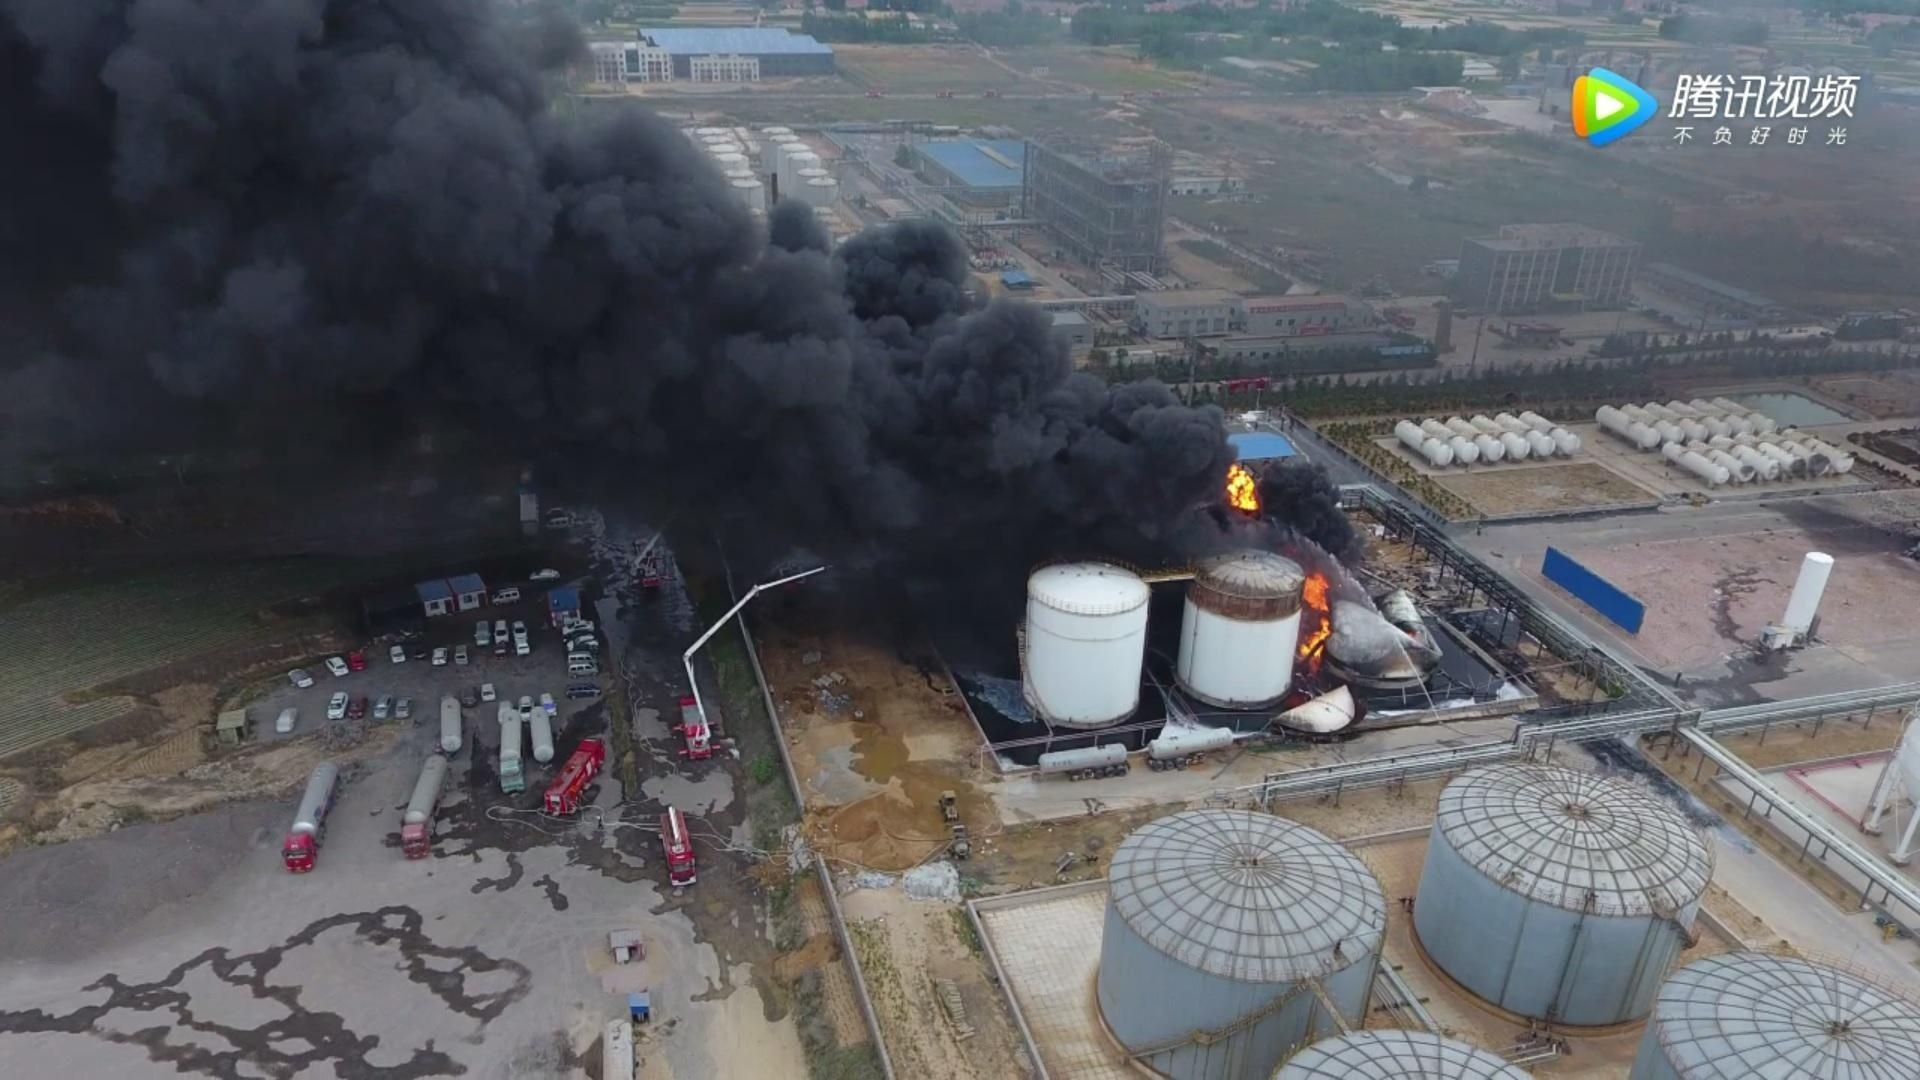fire: (1298, 574, 1332, 661), (1225, 462, 1258, 514)
